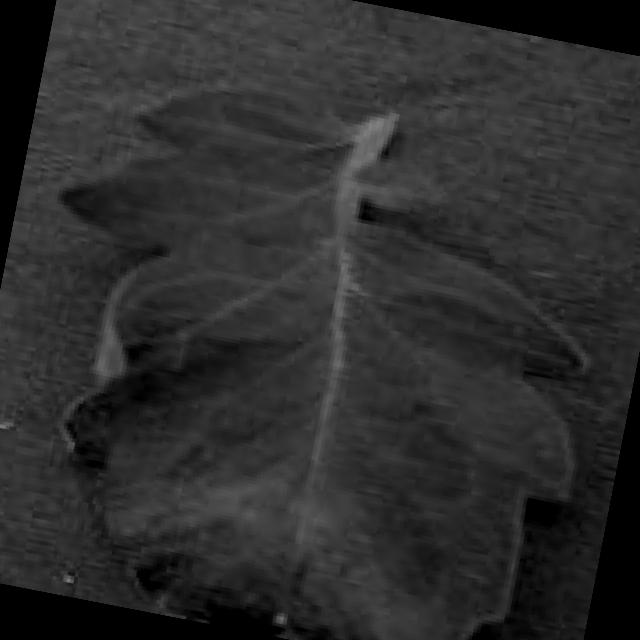leaf blight: (58, 85, 596, 640)
